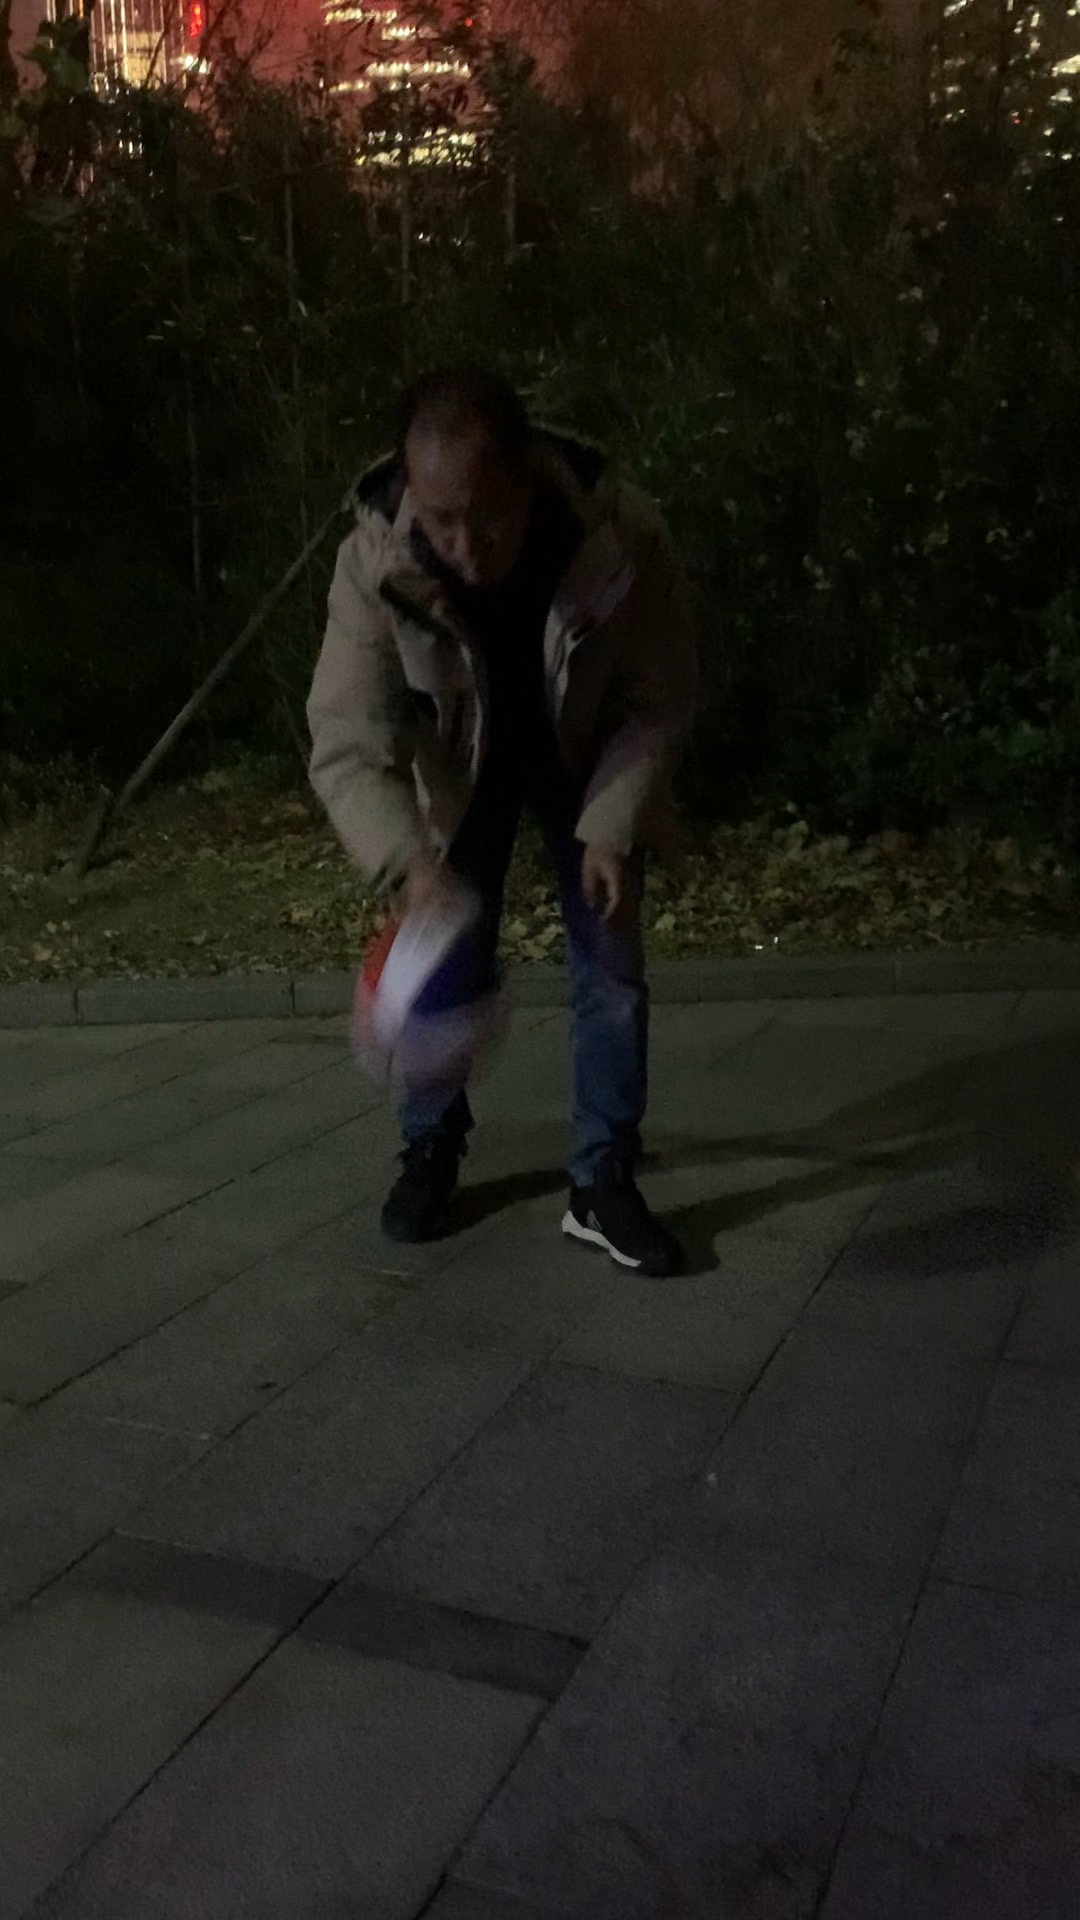ball: (352, 907, 522, 1073)
